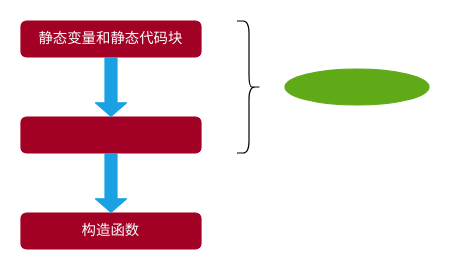
Image size: 450x270. Some labels were removed from this diagram. Here are the shapes that lost their labels. From the top down, the centre of each, then its label:
the point at 356,86: 顺序相关
the point at 110,134: 普通变量和非静态代码块
